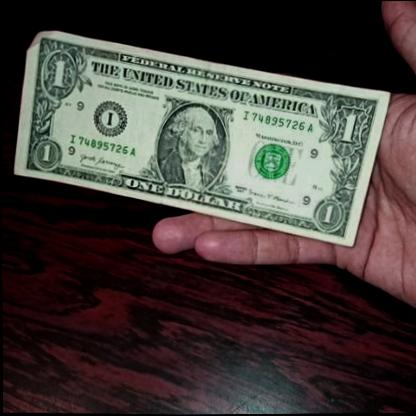one-front: (6, 22, 392, 245)
